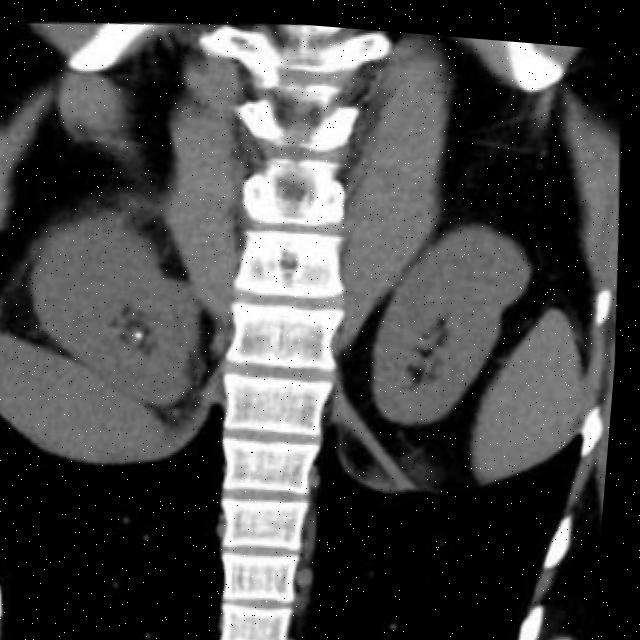Tas_Var: (135, 327, 150, 340)
